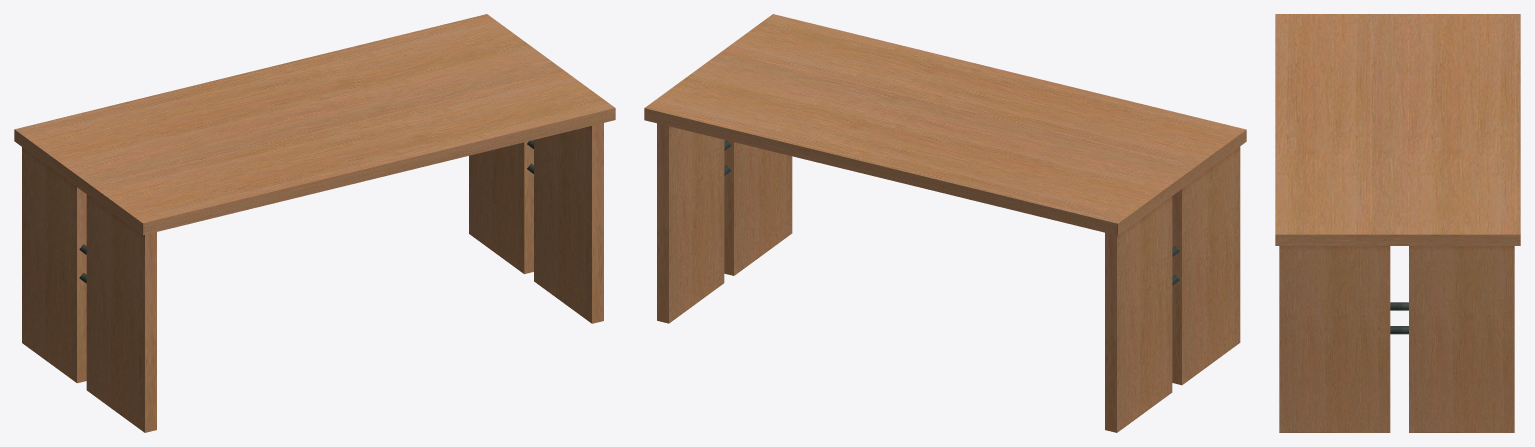
The model's file is desk_med_reg_tan.fbx.
3 views of the same model, side by side, from view 1: azimuth 30°, elevation 25°; view 2: azimuth 150°, elevation 25°; view 3: azimuth 270°, elevation 25° (orthographic). The views are drawn at different scales.
Parts seen in each view (by area): view 1: mesh_0; view 2: mesh_0; view 3: mesh_0.
Boxes of the visible parts, x1,y1,x2,y2 form: mesh_0: (14,14,615,432); mesh_0: (644,14,1246,432); mesh_0: (1275,14,1520,432).
Size of the model in its own units: 170 by 72.92 by 80.
1 material, 1 textured.
